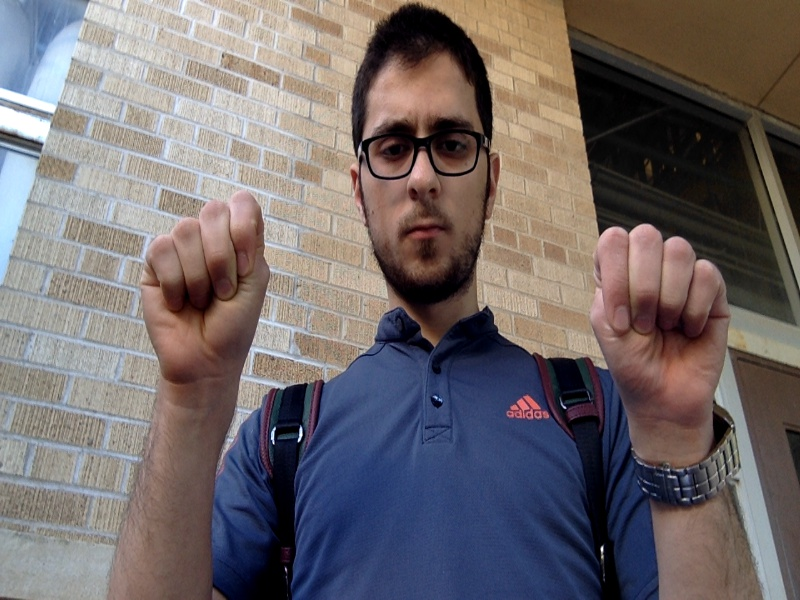0-hand: (594, 224, 729, 426), (141, 193, 269, 392)
